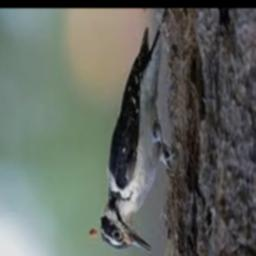Woodpecker: (89, 16, 175, 252)
